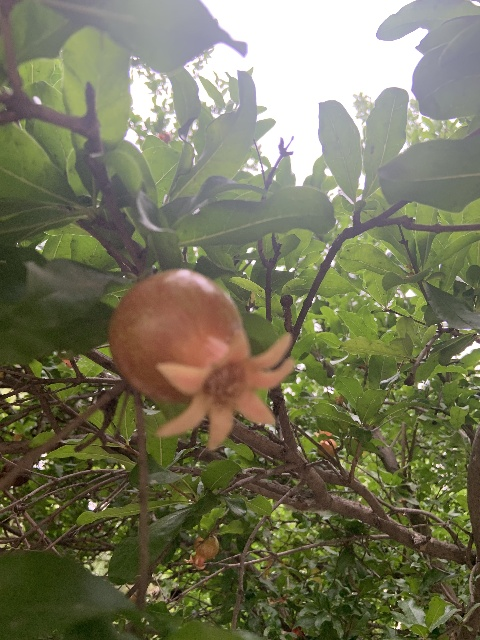early-fruit: (107, 268, 296, 450), (184, 536, 219, 570), (314, 428, 337, 456)
